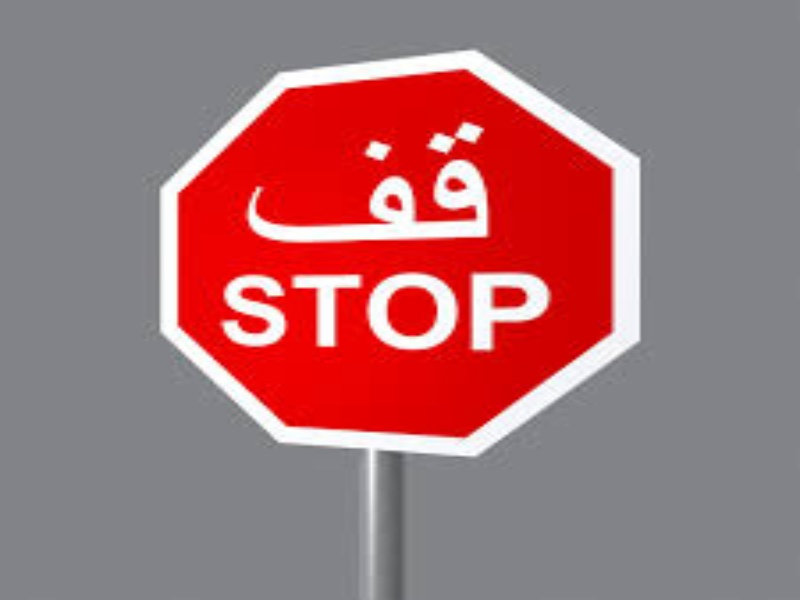Stop_Sign: (164, 55, 627, 450)
